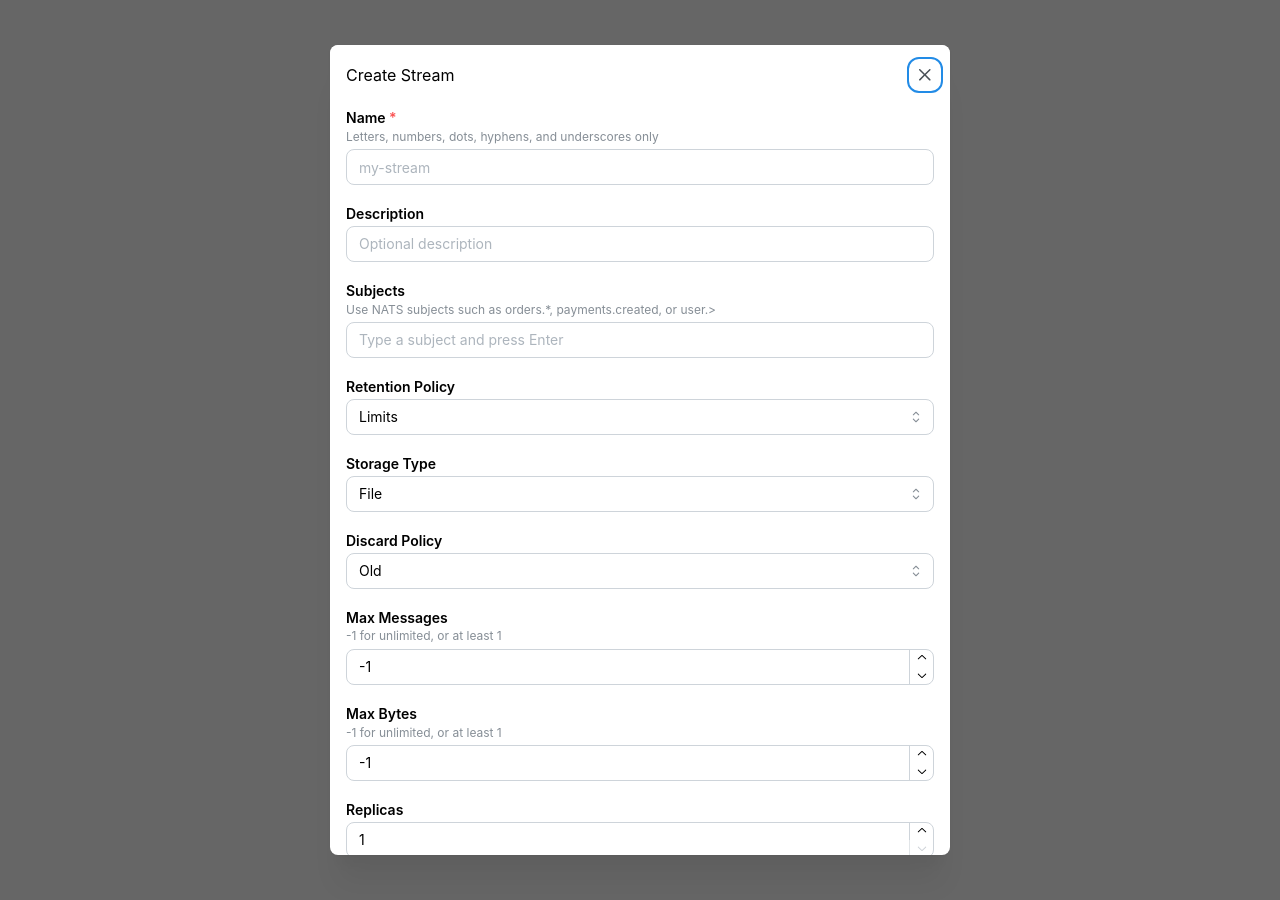
it: StreamForm › validates stream name and subject input before submitting
Step 1. Type "orders#bad" into the field with placeholder "my-stream" → (640, 167), box [346,149,934,185]
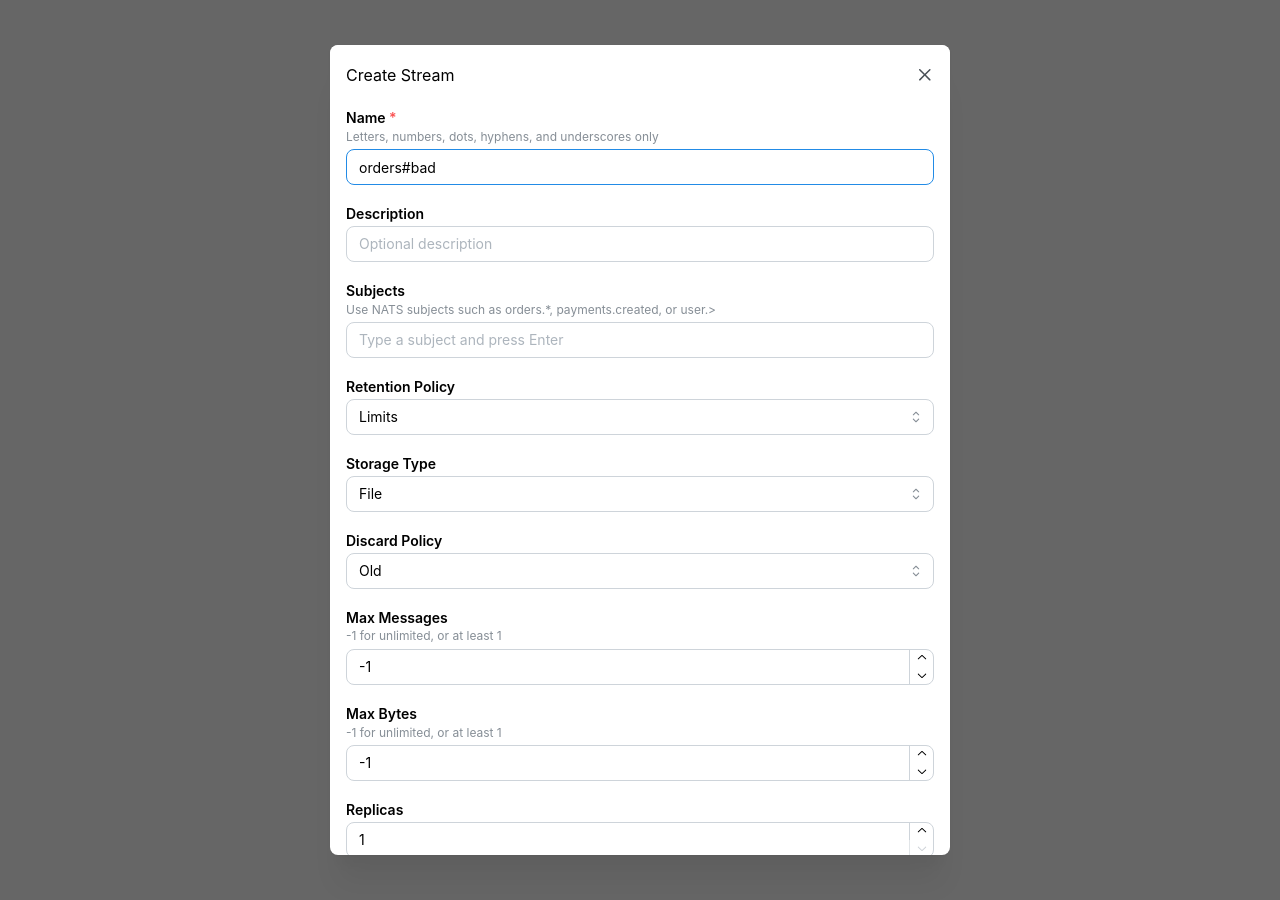
Step 2. Type "orders with spaces" into the dropdown with placeholder "Type a subject and press Enter" → (640, 340), box [359,329,921,351]
Then press Enter
(page scrolled)
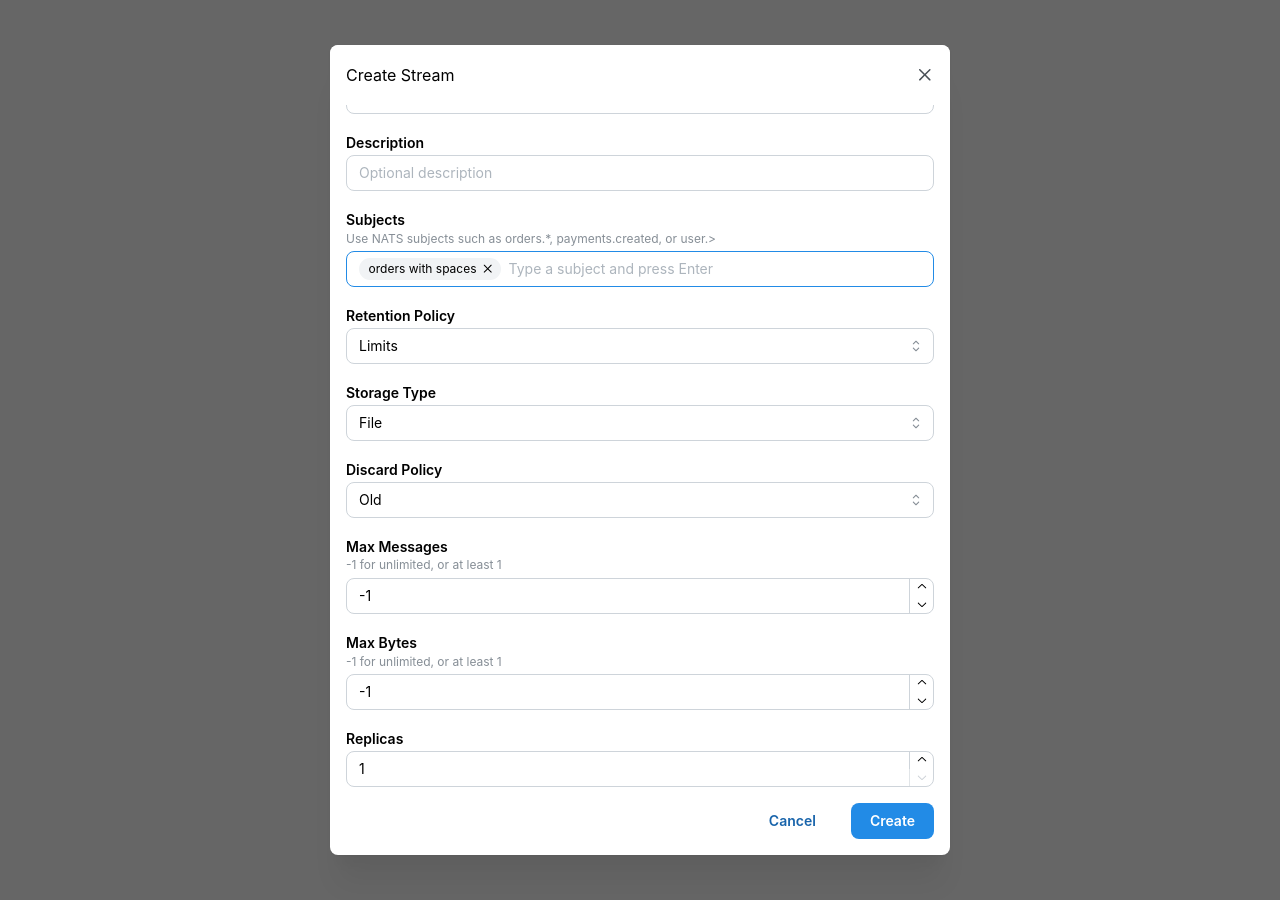
Step 3. Click the button "Create" → (892, 821), box [851,803,934,839]
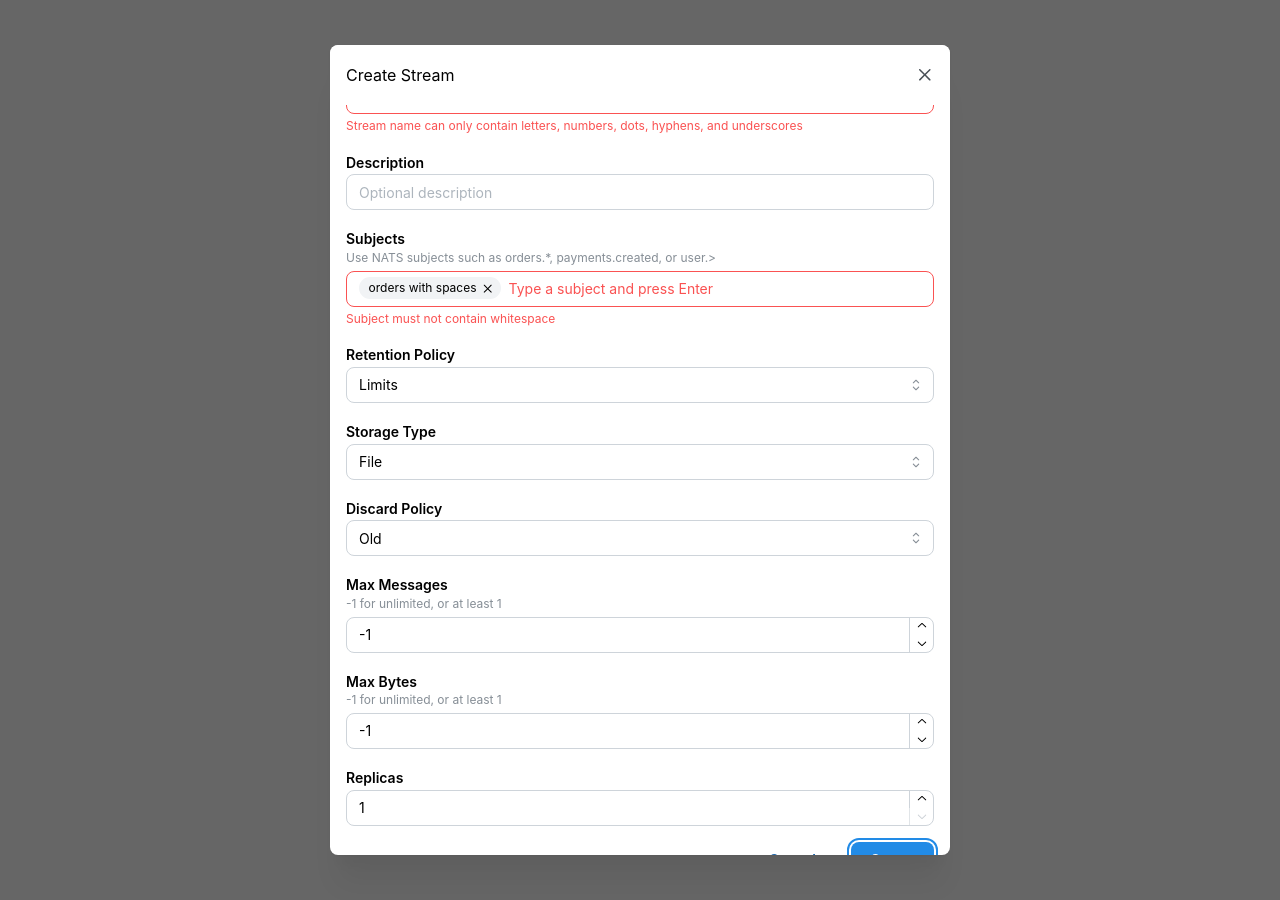
Now the text "Stream name can only contain letters, numbers, dots, hyphens, and underscores" is shown, box [346,118,803,133]
Now the text "Subject must not contain whitespace" is shown, box [346,311,555,326]
